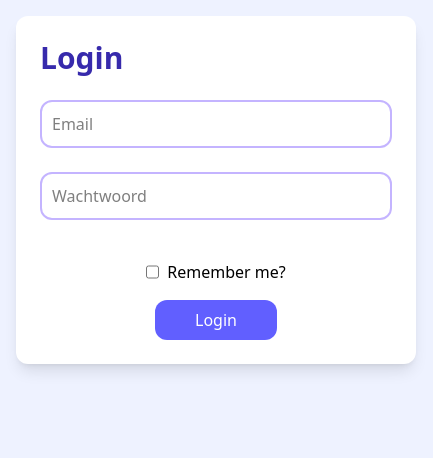
Scenario: LoginPage › shows an error message when login fails (Server down) status 501
Step 1. Type "user@plm.com" into the field with placeholder "Email" → (216, 124), box [40,100,392,148]
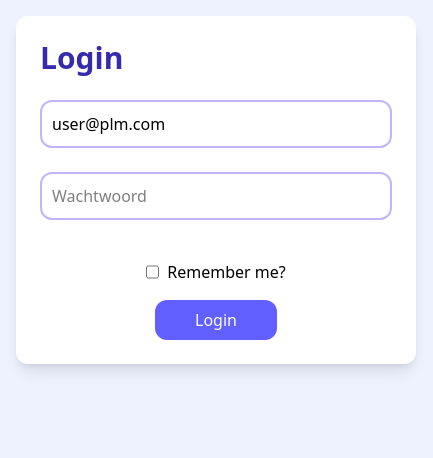
Step 2. Type "plm-password" into the password field with placeholder "Wachtwoord" → (216, 196), box [40,172,392,220]
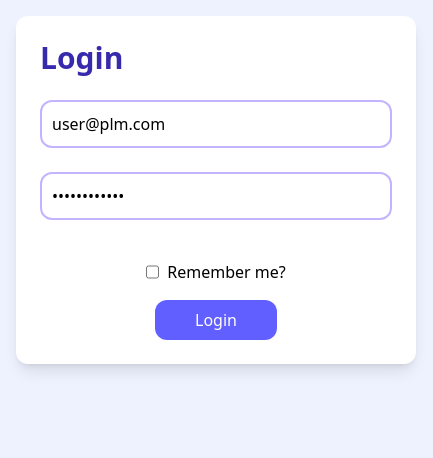
Step 3. Click the button → (216, 320), box [155,300,277,340]
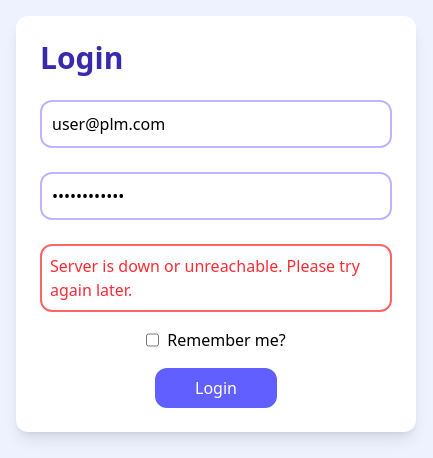
Expected: the text "Server is down or unreachable. Please try again later." is shown, [50,254,382,302]
